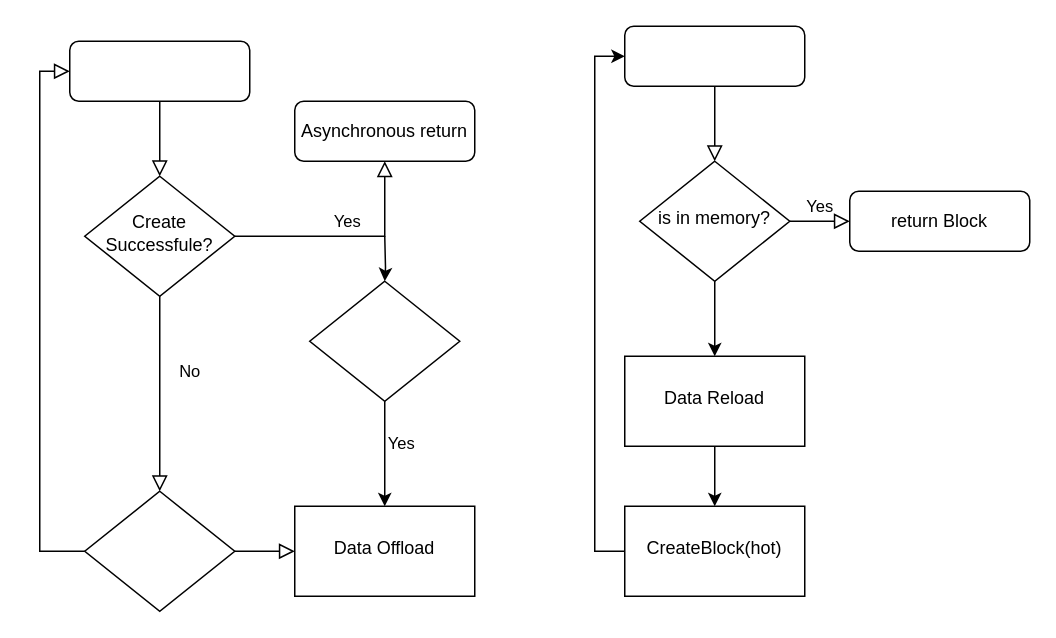
Some shapes in this 1056 by 638 pixel diagram are drawn without their labels. Each missing label, with the centre of its shape:
"CreateBlock(label)" belongs at [159,70].
"ReadBlock()" belongs at [714,55].
"Triiger Offloading?" belongs at [384,340].
"Wait for offload" belongs at [159,550].
